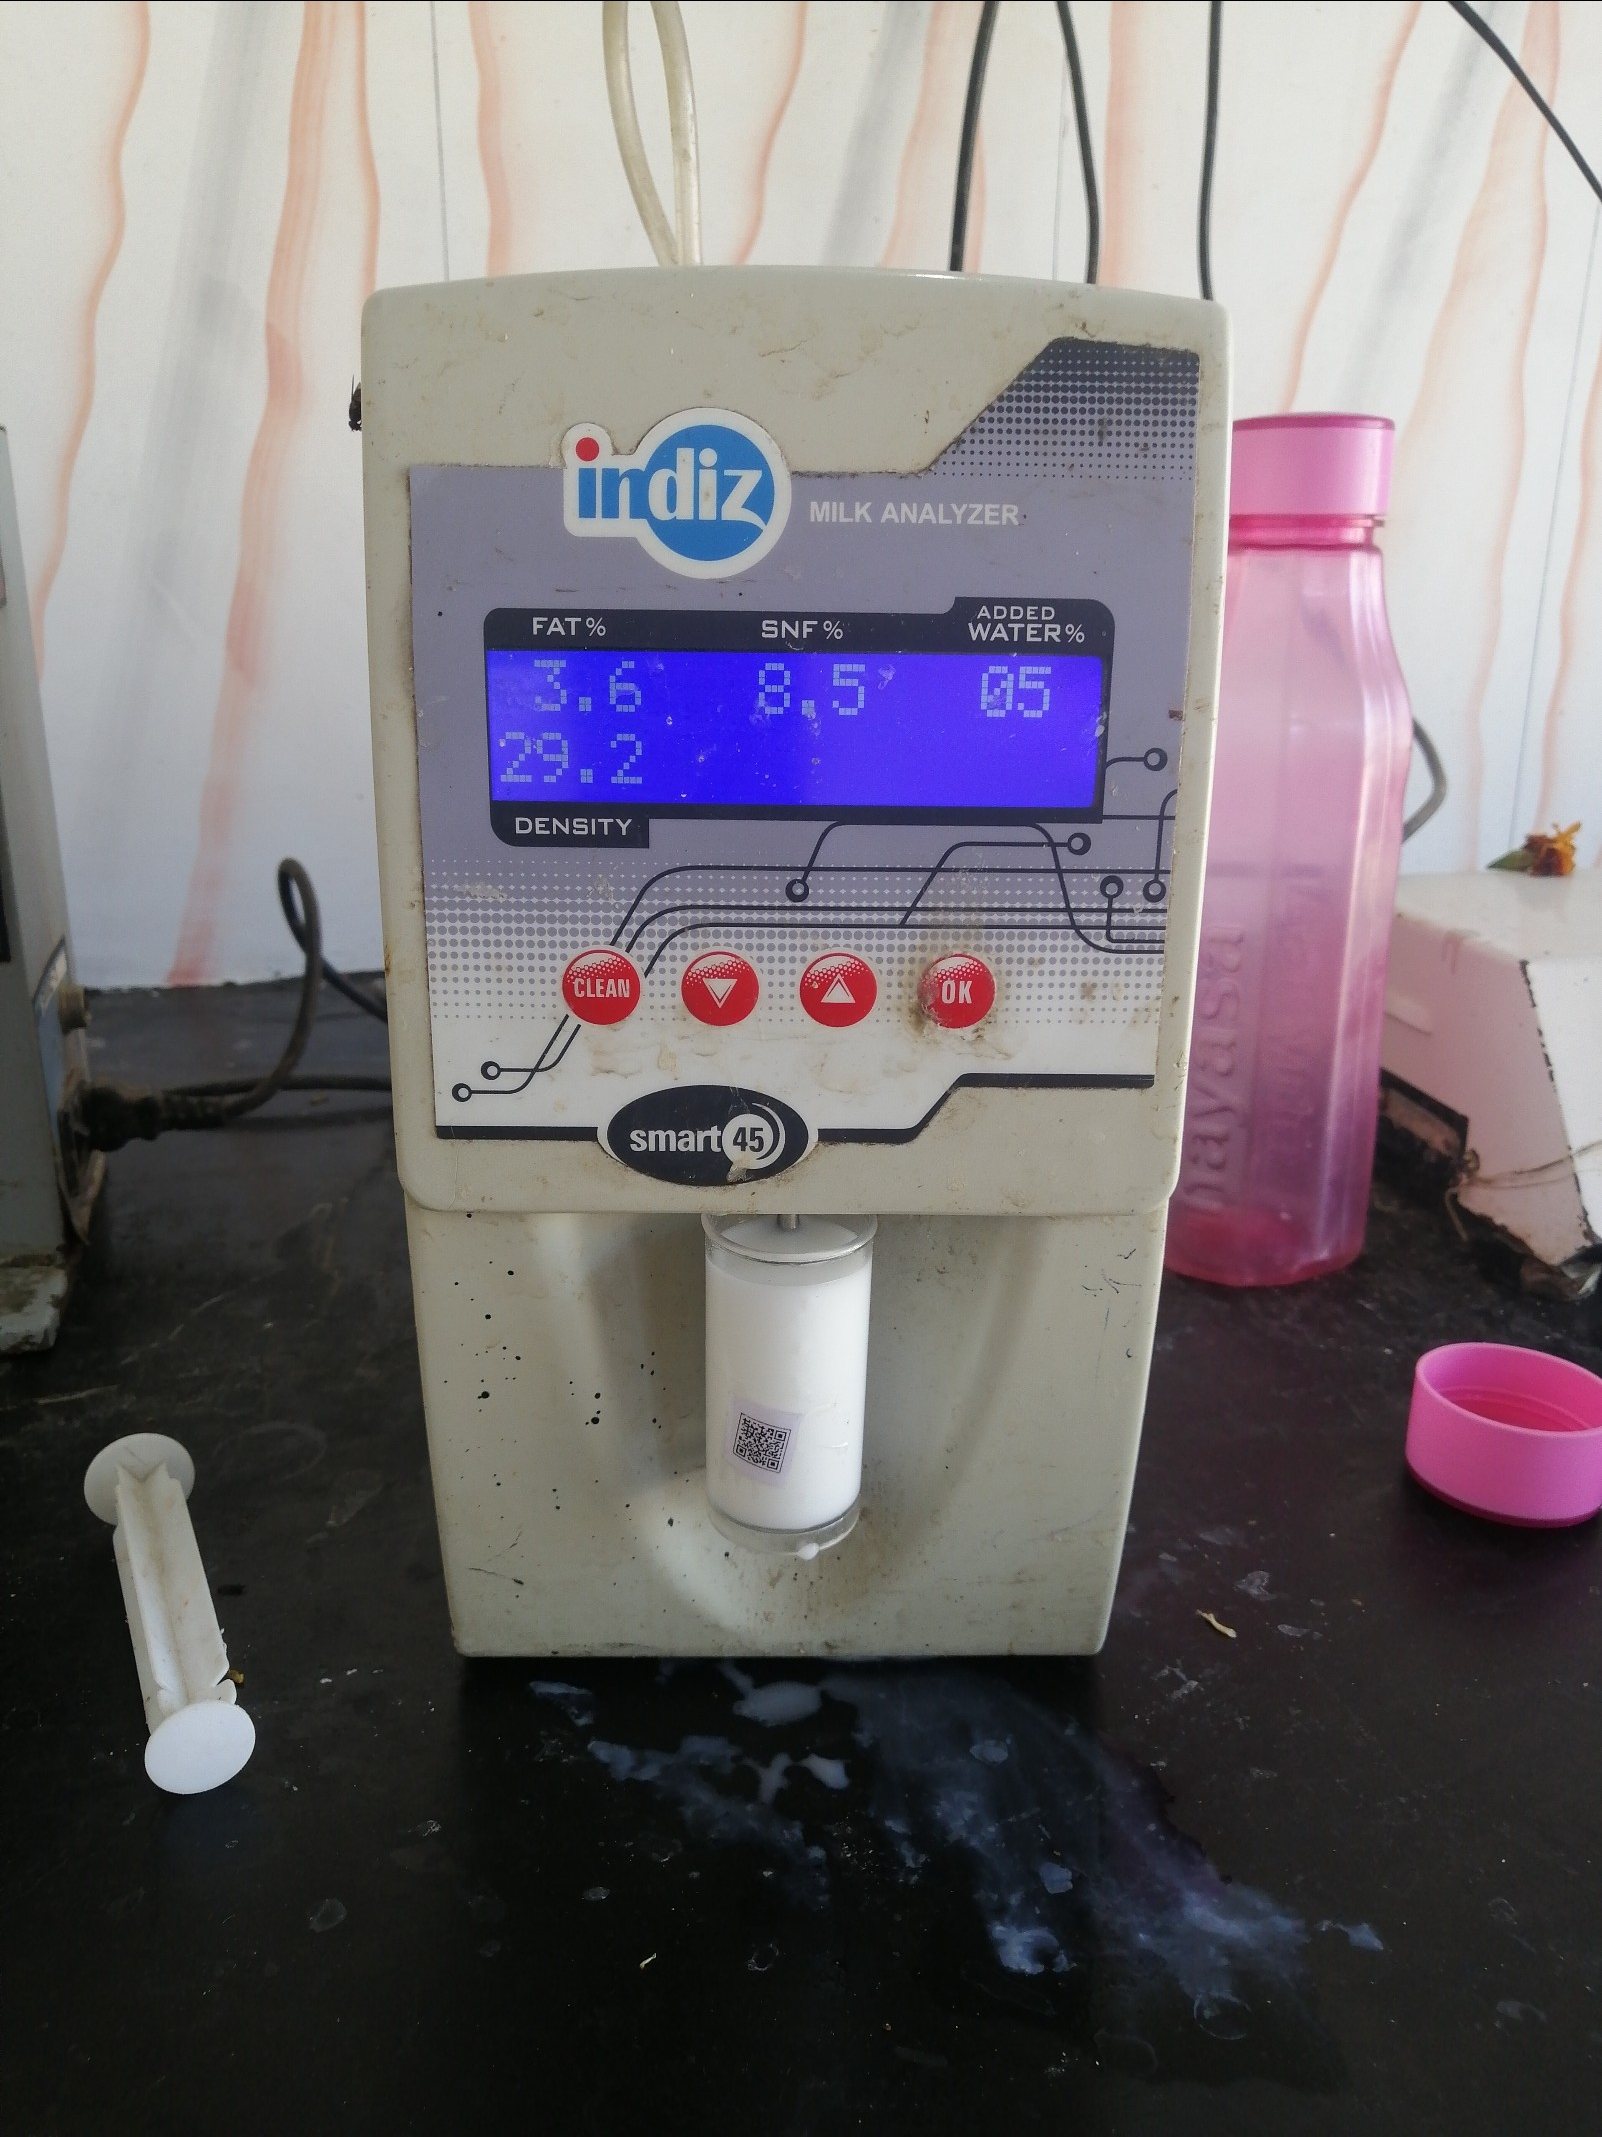lcd: (463, 643, 1139, 848)
qr: (715, 1392, 821, 1493)
